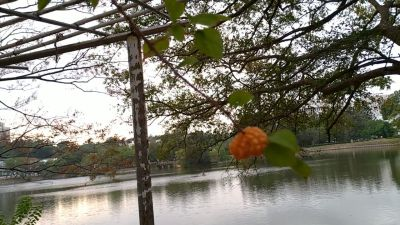eggs: (228, 125, 268, 159)
